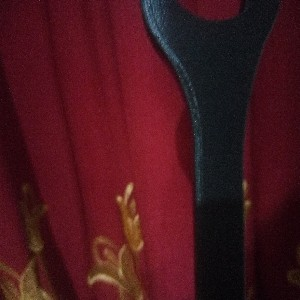spanner: (139, 1, 282, 300)
